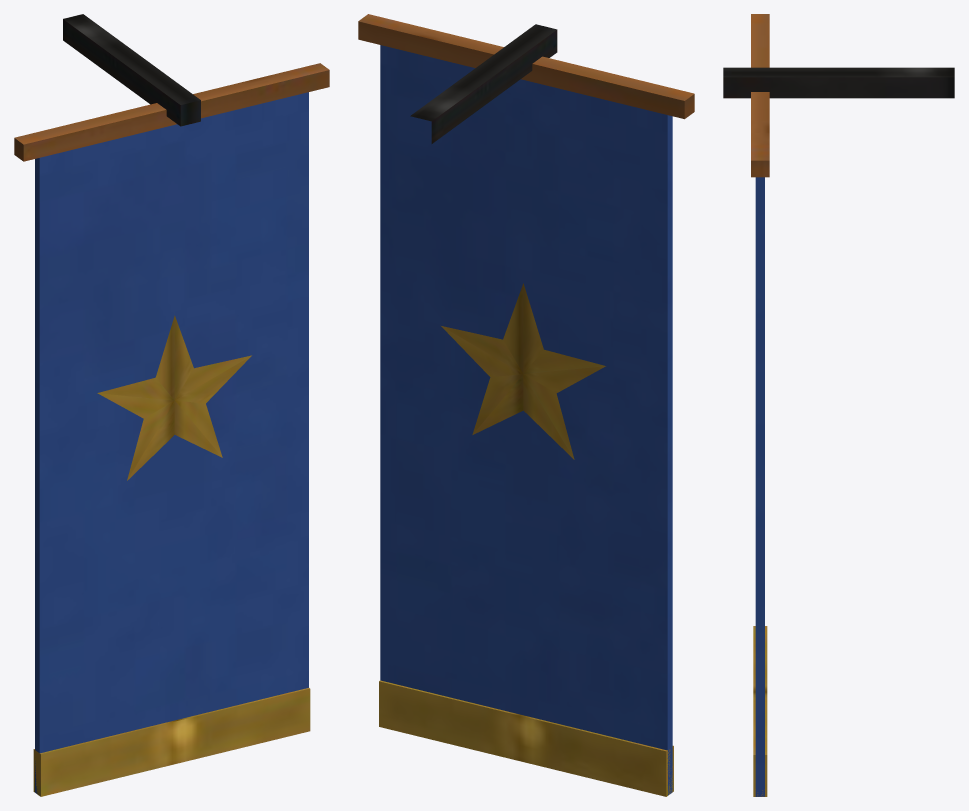
File: mages_banner.glb
3 views of the same model, side by side, from view 1: azimuth 30°, elevation 25°; view 2: azimuth 150°, elevation 25°; view 3: azimuth 270°, elevation 25° (orthographic). The views are drawn at different scales.
Visible parts, largest first — view 1: props_0_0; view 2: props_0_0; view 3: props_0_0.
Part boxes in pixels (<box>): props_0_0: <box>14,14,329,796</box>; props_0_0: <box>358,14,694,796</box>; props_0_0: <box>723,14,954,796</box>.
Size of the model in its own units: 0.75 by 1.58 by 0.5.
2 materials, 2 textured.
